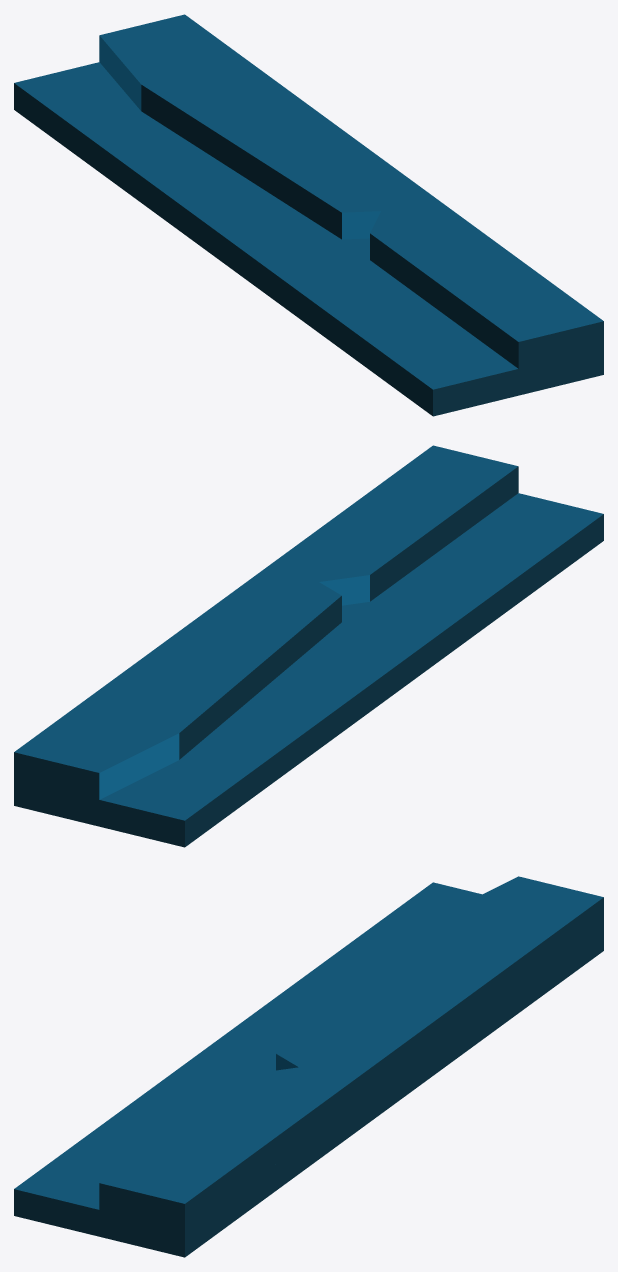
File: stair_type_01.fbx
The picture shows the model from 3 angles, top to bottom: view 1: azimuth 30°, elevation 25°; view 2: azimuth 150°, elevation 25°; view 3: azimuth 330°, elevation 25°; orthographic projection.
Parts seen in each view (by area): view 1: stair_type_01; view 2: stair_type_01; view 3: stair_type_01.
Part boxes in pixels (x1=…): stair_type_01: x1=14, y1=14, x2=603, y2=416; stair_type_01: x1=14, y1=445, x2=603, y2=847; stair_type_01: x1=14, y1=876, x2=603, y2=1257.
Bounding box in the file's own units: 60 × 18 × 255.
